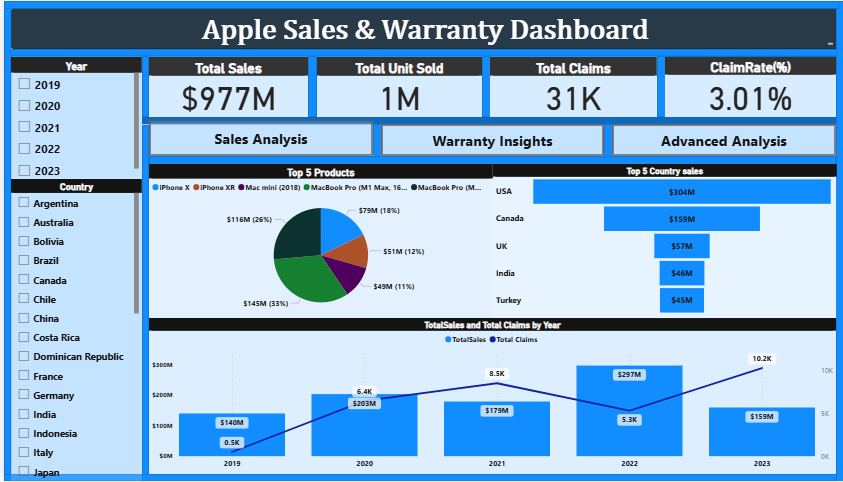

The page's visual inventory and layout, read from the dashboard file:
{"tool":"powerbi","page":{"name":"Summary","canvas":[1400,800],"ordinal":0},"visuals":[{"type":"card","title":"Total Sales","fields":{"Values":["Sales.TotalSales"]},"box":[241.7,93.3,265,100],"z":0},{"type":"card","title":"Total Unit Sold","fields":{"Values":["Sales.TotalUnitsSold"]},"box":[521.7,93.3,275,100],"z":1000},{"type":"card","title":"Total Claims","fields":{"Values":["Warranty.Total Claims"]},"box":[810,93.3,278.3,100],"z":2000},{"type":"shape","box":[506.7,91.7,15,101.7],"z":3000},{"type":"textbox","title":"Apple Sales & Warranty Dashboard","box":[11.2,11.2,1378.3,69.1],"z":4000},{"type":"card","title":"ClaimRate(%)","fields":{"Values":["Warranty.ClaimRate(%)"]},"box":[1101.7,91.7,285,101.7],"z":5000},{"type":"shape","box":[1088.3,91.7,13.3,101.7],"z":6000},{"type":"shape","box":[796.7,91.7,13.3,101.7],"z":7000},{"type":"shape","box":[230,91.7,11.7,101.7],"z":8000},{"type":"shape","box":[11.5,81.7,1389.2,11.5],"z":9000},{"type":"shape","box":[0,788.5,1400.7,12],"z":10000},{"type":"shape","box":[1386.7,0,13.3,813.3],"z":11000},{"type":"shape","box":[8.8,80.3,1380,12],"z":12000},{"type":"shape","box":[0,0,1392,12.9],"z":13000},{"type":"shape","box":[0,11.2,12,777.5],"z":14000},{"type":"shape","box":[230,193.3,1156.7,12],"z":15000},{"type":"slicer","title":"Year","fields":{"Values":["Datetable.Year"]},"box":[11.7,93.3,218.3,203.3],"z":16000},{"type":"slicer","title":"Country","fields":{"Values":["Stores.Country"]},"box":[11.2,297.2,218.5,491.6],"z":17000},{"type":"shape","box":[230,206.7,11.7,583.3],"z":18000},{"type":"donutChart","title":"Top 5 Products","fields":{"Y":["Sales.TotalSales"],"Series":["Products.Product_name"]},"box":[241.4,271.4,572.9,257.1],"z":19000},{"type":"lineStackedColumnComboChart","fields":{"Category":["Datetable.Date.Variation.Date Hierarchy.Year","Datetable.Date.Variation.Date Hierarchy.Month"],"Y":["Sales.TotalSales"],"Y2":["Warranty.Total Claims"]},"box":[241.7,528.3,1145,260],"z":20000},{"type":"shape","box":[241.7,258.3,1145,13.3],"z":21000},{"type":"funnel","title":"Top 5 Country sales","fields":{"Category":["Stores.Country"],"Y":["Sales.TotalSales"]},"box":[814.3,271.4,572.9,257.1],"z":22000},{"type":"shape","box":[1000,205,13.3,53.3],"z":23000},{"type":"shape","box":[615,205,13.3,53.3],"z":24000},{"type":"actionButton","box":[241.7,200,373.3,58.3],"z":25000},{"type":"actionButton","box":[628.3,205,371.7,53.3],"z":26000},{"type":"actionButton","box":[1013.3,205,373.3,53.3],"z":27000}]}

Visuals, with their boxes in screenshot pixels (x1, y1, x2, y2), scaled from the page's 1400x800 canvas onto the 843x482 screenshot:
"Total Sales" card: bbox=[146, 56, 305, 116]
"Total Unit Sold" card: bbox=[314, 56, 480, 116]
"Total Claims" card: bbox=[488, 56, 655, 116]
shape: bbox=[305, 55, 314, 117]
"Apple Sales & Warranty Dashboard" textbox: bbox=[7, 7, 837, 48]
"ClaimRate(%)" card: bbox=[663, 55, 835, 117]
shape: bbox=[655, 55, 663, 117]
shape: bbox=[480, 55, 488, 117]
shape: bbox=[138, 55, 146, 117]
shape: bbox=[7, 49, 842, 56]
shape: bbox=[0, 475, 842, 481]
shape: bbox=[835, 0, 842, 481]
shape: bbox=[5, 48, 836, 56]
shape: bbox=[0, 0, 838, 8]
shape: bbox=[0, 7, 7, 475]
shape: bbox=[138, 116, 835, 124]
"Year" slicer: bbox=[7, 56, 138, 179]
"Country" slicer: bbox=[7, 179, 138, 475]
shape: bbox=[138, 125, 146, 476]
"Top 5 Products" donutChart: bbox=[145, 164, 490, 318]
lineStackedColumnComboChart - Datetable.Date.Variation.Date Hierarchy.Year x Datetable.Date.Variation.Date Hierarchy.Month: bbox=[146, 318, 835, 475]
shape: bbox=[146, 156, 835, 164]
"Top 5 Country sales" funnel: bbox=[490, 164, 835, 318]
shape: bbox=[602, 124, 610, 156]
shape: bbox=[370, 124, 378, 156]
actionButton: bbox=[146, 120, 370, 156]
actionButton: bbox=[378, 124, 602, 156]
actionButton: bbox=[610, 124, 835, 156]
